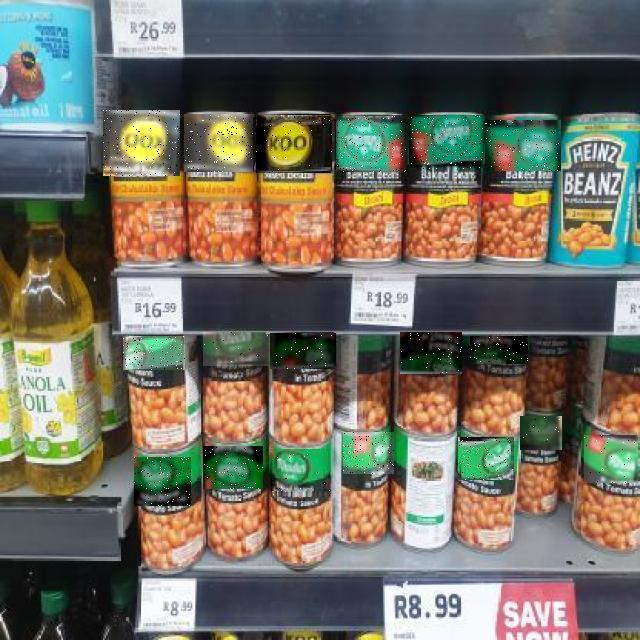Beans: (103, 110, 180, 176), (257, 115, 333, 173), (184, 114, 253, 172), (409, 116, 483, 170), (336, 116, 406, 172), (485, 120, 561, 171), (134, 457, 191, 506), (270, 450, 330, 496), (400, 332, 462, 374), (585, 435, 639, 483), (203, 446, 263, 489), (458, 437, 514, 480), (270, 333, 336, 369), (203, 332, 268, 366), (343, 432, 394, 474), (123, 336, 185, 370), (470, 336, 528, 364), (520, 416, 562, 450)
